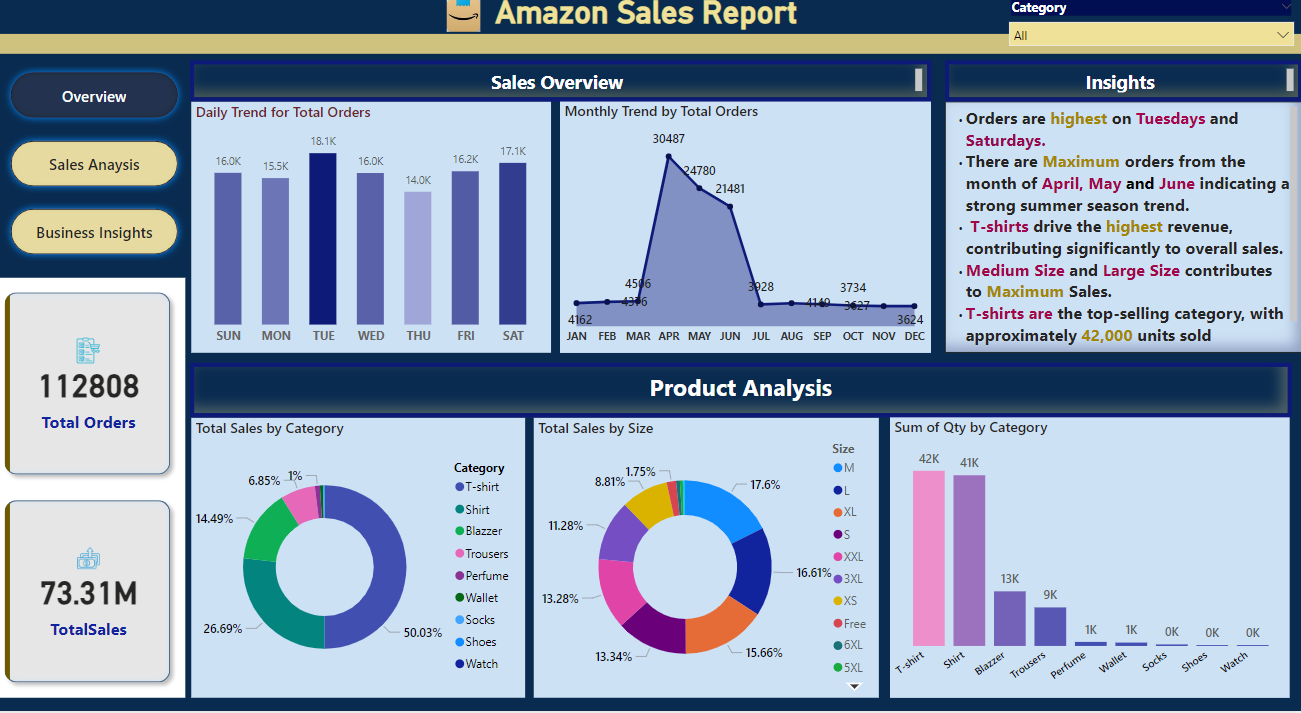

This screenshot's page, from the dashboard's own definition file:
{"tool":"powerbi","page":{"name":"Overview","canvas":[1500,820],"ordinal":0},"visuals":[{"type":"cardVisual","fields":{"Data":["Amazon Sale Report.Total Orders","Amazon Sale Report.TotalSales"]},"box":[0,325,223.4,479.7],"z":0},{"type":"shape","title":"Amazon Sales Report","box":[0,0,1500,68.6],"z":1000},{"type":"columnChart","title":"Daily Trend for Total Orders","fields":{"Category":["Amazon Sale Report.Order Day"],"Y":["Amazon Sale Report.Total Orders"]},"box":[230,122.9,411.4,287.1],"z":2000},{"type":"areaChart","title":"Monthly Trend by Total Orders","fields":{"Category":["Amazon Sale Report.Order Month"],"Y":["Amazon Sale Report.Total Orders"]},"box":[651.4,121.4,424.3,288.6],"z":3000},{"type":"donutChart","title":"Total Sales by Category","fields":{"Category":["Amazon Sale Report.Category"],"Y":["Amazon Sale Report.TotalSales"]},"box":[230,484.3,381.4,320],"z":4000},{"type":"donutChart","title":"Total Sales by Size","fields":{"Category":["Amazon Sale Report.Size"],"Y":["Amazon Sale Report.TotalSales"]},"box":[621.4,484.3,394.3,320],"z":5000},{"type":"clusteredColumnChart","fields":{"Y":["Sum(Amazon Sale Report.Qty)"],"Category":["Amazon Sale Report.Category"]},"box":[1028.6,482.9,457.1,321.4],"z":6000},{"type":"slicer","fields":{"Values":["Amazon Sale Report.Category"]},"box":[1154.3,0,345.7,68.6],"z":7000},{"type":"textbox","box":[228.6,75.7,847.1,47.1],"z":8000},{"type":"textbox","box":[228.1,421.9,1259.4,62.5],"z":9000},{"type":"pageNavigator","box":[15.6,81.2,207.8,225],"z":10000},{"type":"image","box":[510,0,62.9,48.6],"z":11000},{"type":"textbox","box":[1091.4,122.9,408.6,287.1],"z":12000},{"type":"textbox","box":[1091.4,75.7,408.6,47.1],"z":13000}]}

Visuals, with their boxes in screenshot pixels (x1, y1, x2, y2), scaled from the page's 1500x820 canvas onto the 1301x713 screenshot:
cardVisual - Amazon Sale Report.Total Orders x Amazon Sale Report.TotalSales: 0 283 194 700
"Amazon Sales Report" shape: 0 0 1300 60
"Daily Trend for Total Orders" columnChart: 199 107 556 356
"Monthly Trend by Total Orders" areaChart: 565 106 933 356
"Total Sales by Category" donutChart: 199 421 530 699
"Total Sales by Size" donutChart: 539 421 881 699
clusteredColumnChart - Sum(Amazon Sale Report.Qty) x Amazon Sale Report.Category: 892 420 1289 699
slicer - Amazon Sale Report.Category: 1001 0 1300 60
textbox: 198 66 933 107
textbox: 198 367 1290 421
pageNavigator: 14 71 194 266
image: 442 0 497 42
textbox: 947 107 1300 356
textbox: 947 66 1300 107
